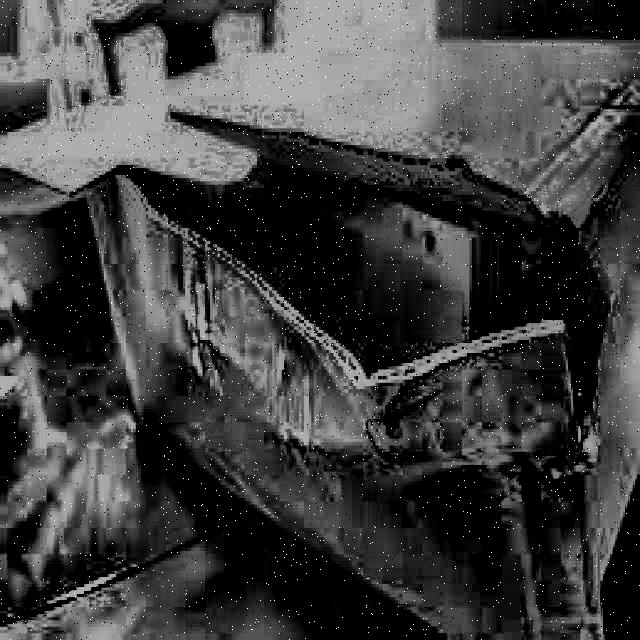box: (125, 23, 640, 640)
hole: (127, 95, 603, 421)
